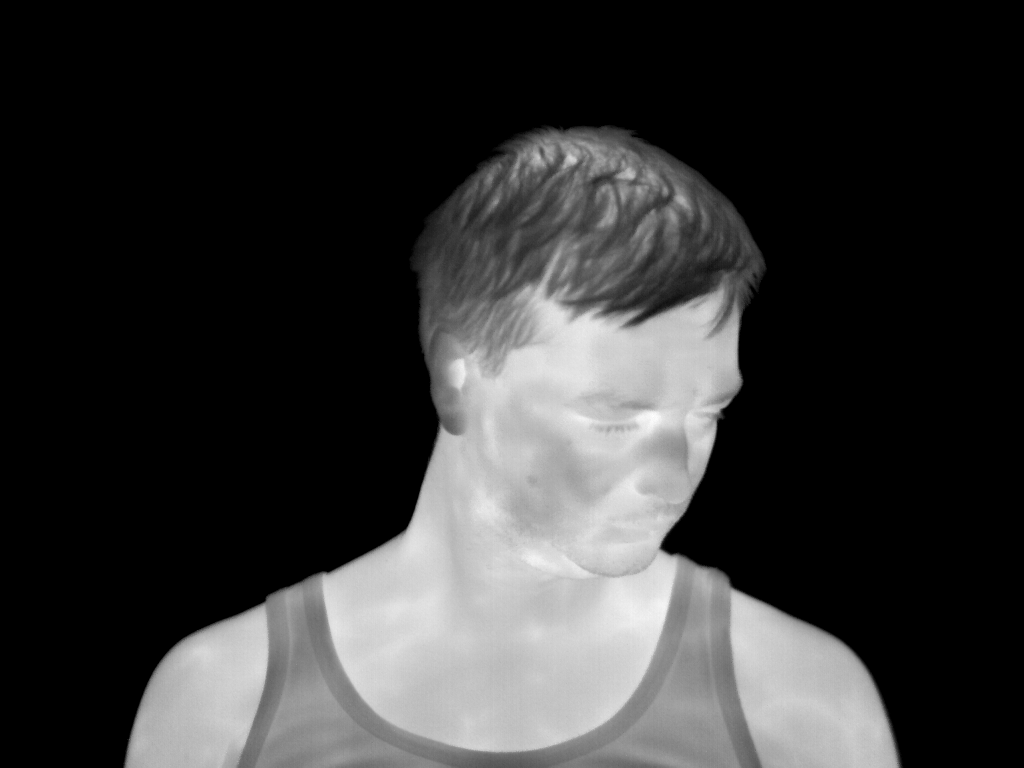face: (527, 295, 746, 577)
